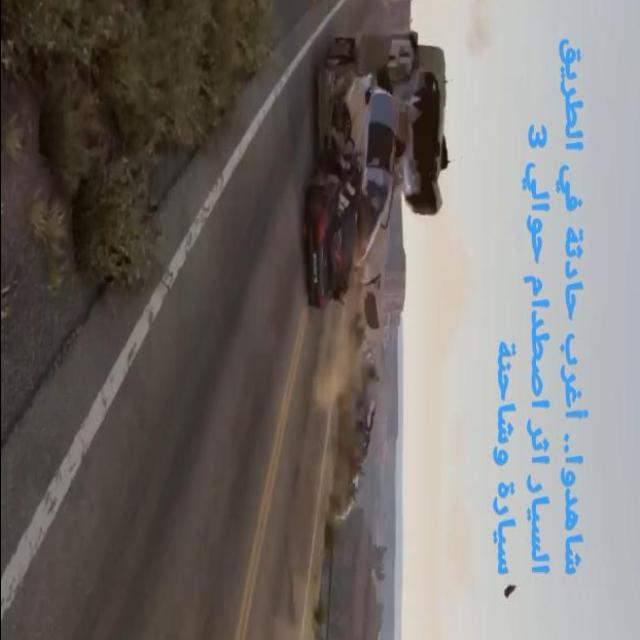accident: (292, 2, 454, 354)
